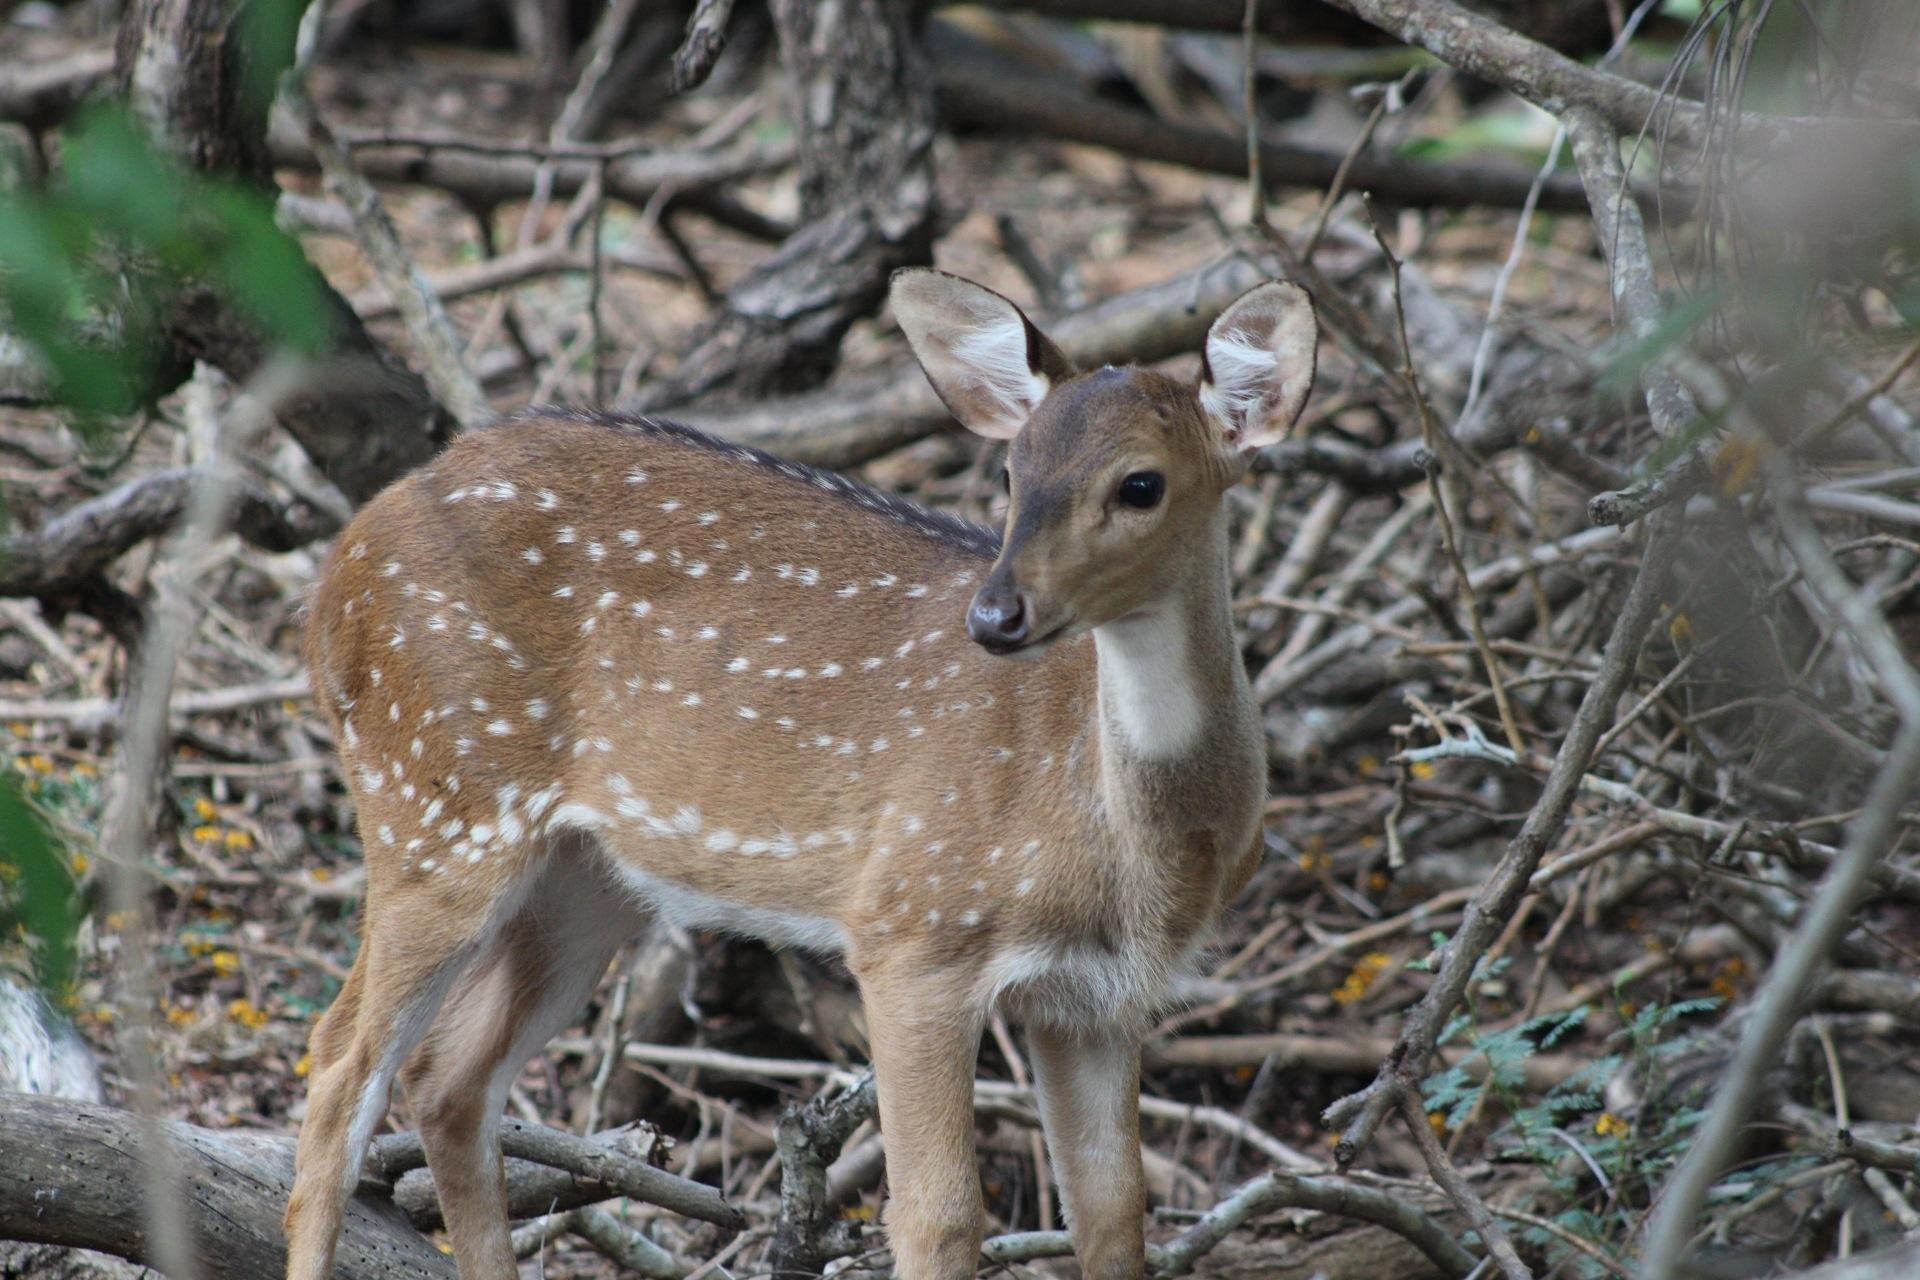Deer: (286, 271, 1314, 1279)
